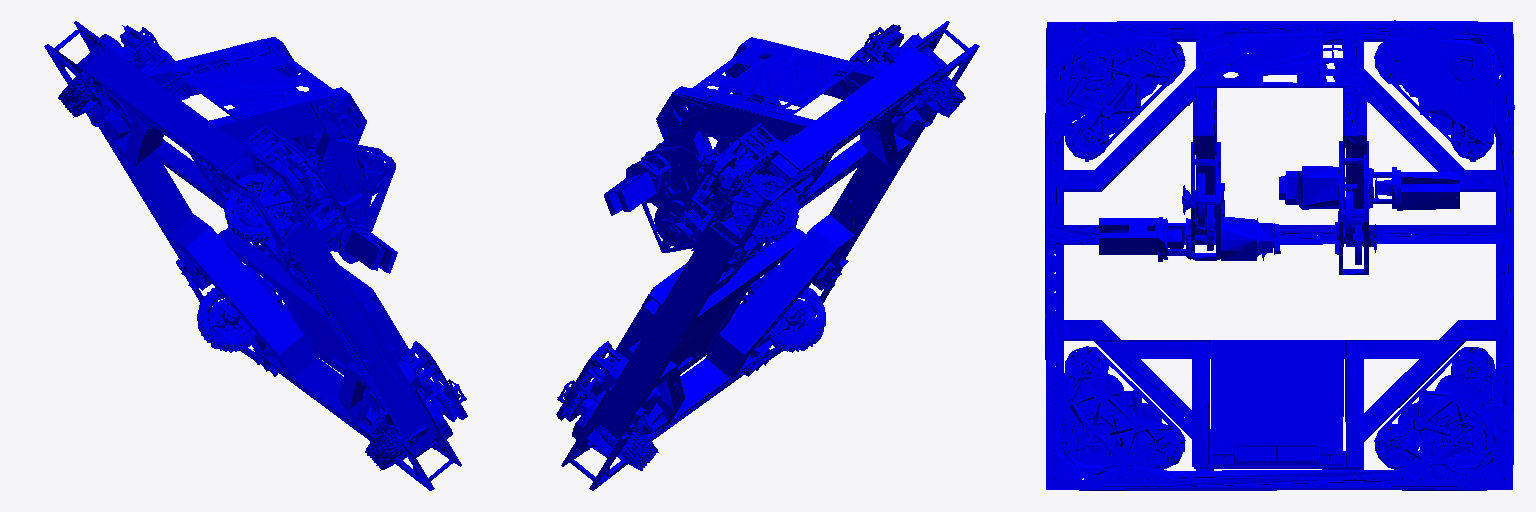
The robot description file, URDF, robot "cubert_2":
<?xml version="1.0"?>
<robot name="cubert_2">

	<link name="base_link_2">
		<visual>
			<origin xyz="0 0 0" rpy="0 0 0" />
			<geometry>
				<mesh filename="package://robot_2024_description/meshes/base_link.stl"/>
			</geometry>
			<material name="Red">
				<color rgba="0 0 1 0.1"/>
			</material>
      	</visual>
   
		<collision>
			<origin xyz="0 0 0" rpy="0 0 0"/>
			<geometry>
				<mesh filename="package://robot_2024_description/meshes/base_link.stl"/>
			</geometry>
		</collision>
	</link>
  
	<joint name="b2c2" type="fixed">
		<parent link="camera_2"/>
		<child link="base_link_2"/>
		<origin xyz="-0.079 -0.068 -0.326" rpy="0.000 1.066 0.000"/>
		<!-- <origin xyz="-0.079 -0.068 -0.326" rpy="0.000 1.066 0.000"/> -->
	</joint>

	<link name="camera_2"/>

	<link name="camera_2_plane"/>

	<joint name="camera2camera" type="fixed">
		<parent link="camera_2"/>
		<child link="camera_2_plane"/>
		<origin xyz="0 0 0" rpy="0 0 3.14"/>
	</joint>

</robot>

--- Facts derived from the render (not from the file) ---
The picture shows the robot from 3 angles, left to right: view 1: azimuth 30°, elevation 25°; view 2: azimuth 150°, elevation 25°; view 3: azimuth 270°, elevation 25°; orthographic projection.
Model cubert_2 with 3 links and 2 joints (2 fixed), rooted at camera_2, posed all joints at 0.
Visible links, largest first — view 1: base_link_2; view 2: base_link_2; view 3: base_link_2.
Boxes of the visible links, box(x1,y1,x2,y2) form: base_link_2: box(44, 21, 467, 490); base_link_2: box(556, 21, 979, 490); base_link_2: box(1045, 20, 1514, 490).
Bounding box of the posed robot: 0.4063 × 0.6098 × 0.5663 m (x, y, z).
Meshes: 1 distinct files referenced, 1 mesh visuals loaded (1 binary STL).